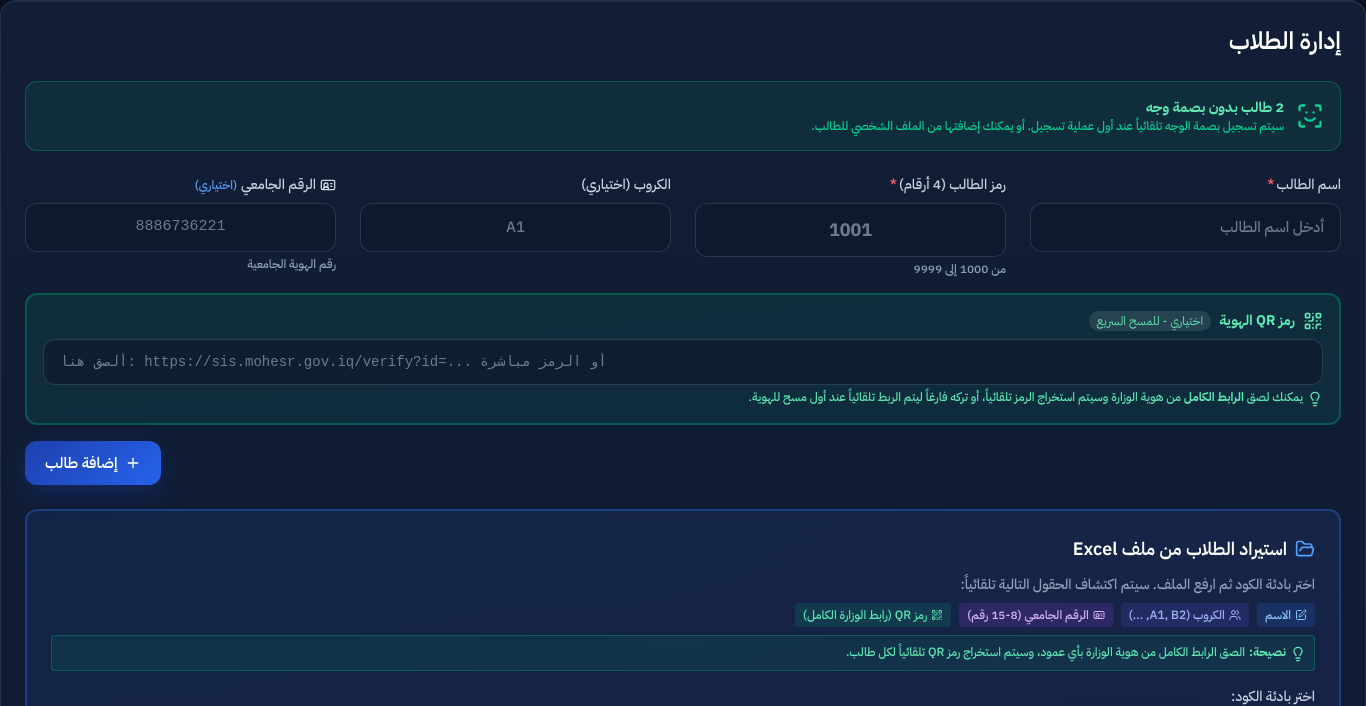
Test: StudentManager › rejects code below 1000
Type "اختبار" into the field labelled "اسم الطالب*" at (1186, 227), box [1030,203,1341,252]
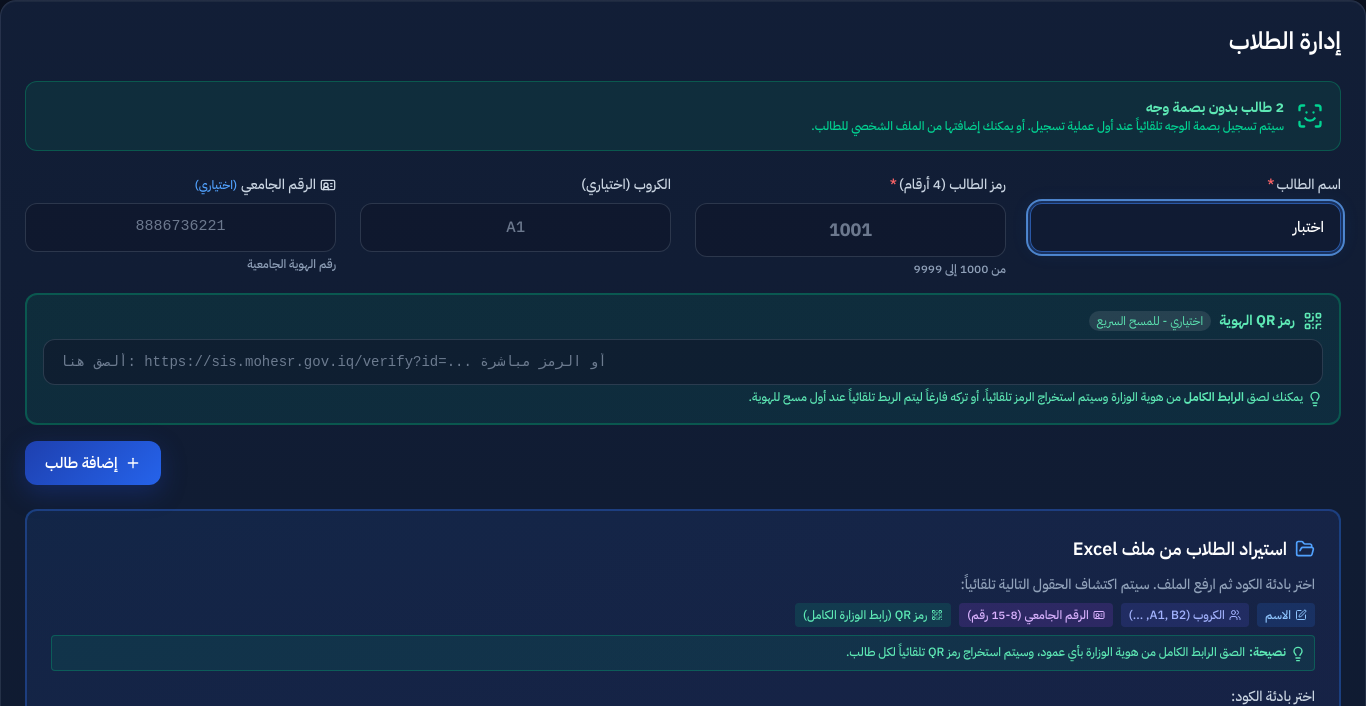
Type "0999" into the field labelled "رمز الطالب (4 أرقام)*" at (850, 230), box [695,203,1006,257]
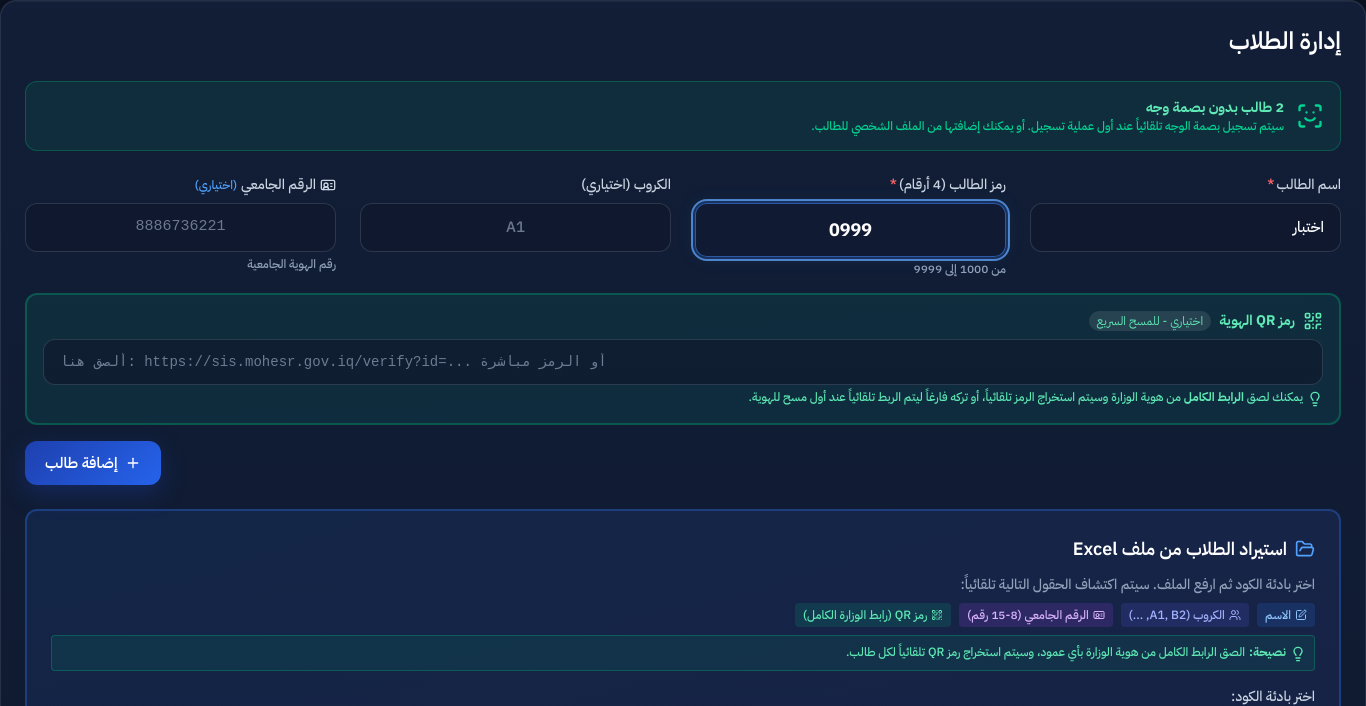
Click the button "إضافة طالب" at (93, 463), box [25,441,161,485]
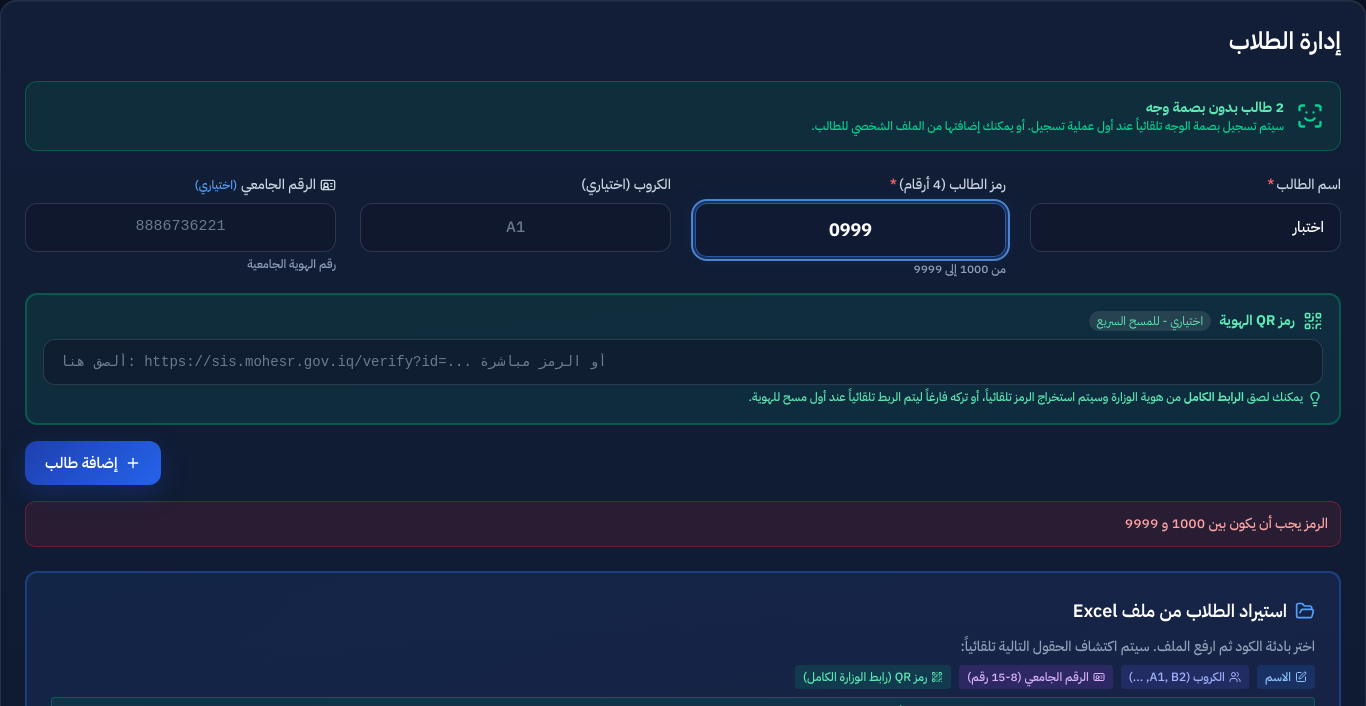
Check: the text "الرمز يجب أن يكون بين 1000 و 9999" is shown, box [25,501,1341,547]
